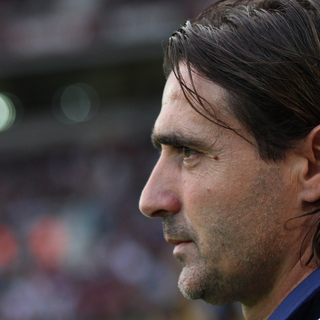eye: (167, 140, 210, 167)
